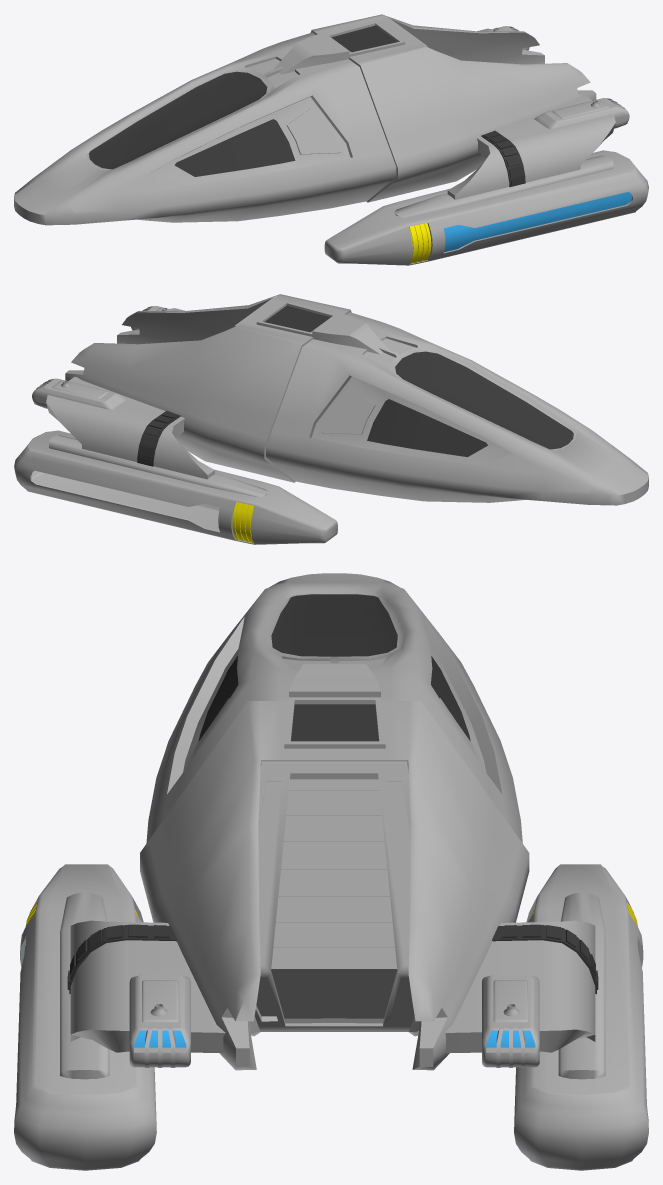
The model's file is SpaceShip.fbx.
The picture shows the model from 3 angles, top to bottom: view 1: azimuth 30°, elevation 25°; view 2: azimuth 150°, elevation 25°; view 3: azimuth 270°, elevation 25°; orthographic projection. The views are drawn at different scales.
Visible parts, largest first — view 1: polymsh, Tail, Engine, cube, Windows, Windows2, Blue_Warp, hatch, cylinder, cube2, polymsh_extracted, polymsh_detached (+2 smaller); view 2: polymsh, Tail, Engine1, Windows, cube3, Windows1, hatch, cylinder2, cube4, polymsh_extracted3, polymsh_detached, Yellow_Engines2 (+1 smaller); view 3: Tail, polymsh, Engine, Engine1, Door_Retratil, Door_Atras, cube, cube3, Windows, hatch, cylinder, cylinder2 (+9 smaller).
Boxes of the visible parts, box(x1,y1,x2,y2) form: polymsh: box(14, 32, 396, 225); Tail: box(310, 14, 596, 202); Engine: box(324, 150, 648, 265); cube: box(447, 96, 615, 199); Windows: box(89, 71, 267, 169); Windows2: box(174, 119, 295, 176); Blue_Warp: box(443, 192, 631, 252); hatch: box(274, 21, 405, 74); cylinder: box(394, 155, 613, 217); cube2: box(534, 98, 629, 129); polymsh_extracted: box(481, 130, 525, 186); polymsh_detached: box(331, 25, 397, 52); polymsh: box(266, 312, 648, 505); Tail: box(65, 294, 351, 482); Engine1: box(14, 430, 337, 544); Windows: box(395, 351, 573, 449); cube3: box(46, 377, 214, 479); Windows1: box(367, 399, 487, 457); hatch: box(256, 301, 387, 354); cylinder2: box(49, 435, 267, 496); cube4: box(32, 378, 126, 409); polymsh_extracted3: box(137, 410, 180, 466); polymsh_detached: box(264, 305, 330, 332); Yellow_Engines2: box(232, 502, 254, 542); Tail: box(140, 701, 529, 1070); polymsh: box(146, 573, 522, 843); Engine: box(14, 864, 156, 1170); Engine1: box(514, 864, 648, 1170); Door_Retratil: box(271, 779, 397, 968); Door_Atras: box(254, 761, 414, 1031); cube: box(70, 920, 225, 1052); cube3: box(445, 920, 595, 1053); Windows: box(271, 594, 397, 656); hatch: box(284, 663, 385, 748); cylinder: box(60, 892, 109, 1079); cylinder2: box(558, 892, 605, 1079).
Size of the model in its own units: 56.53 by 15.72 by 31.64.
